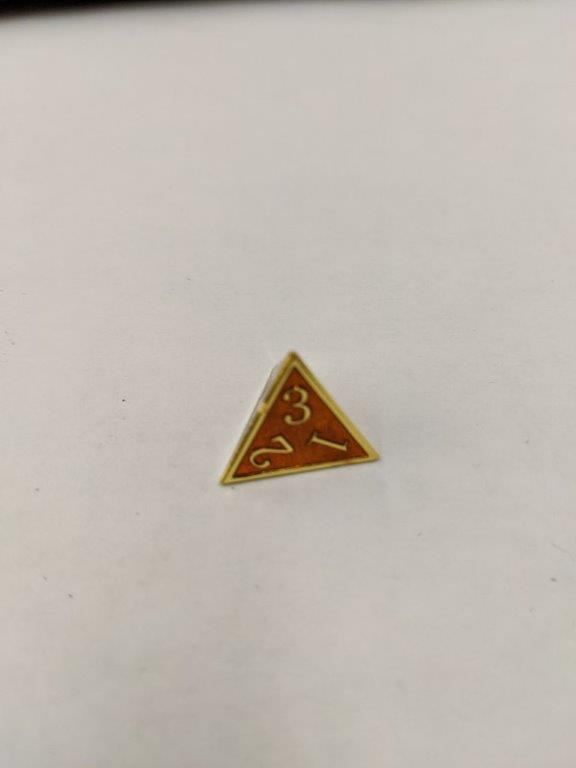d4-3: (215, 346, 381, 491)
